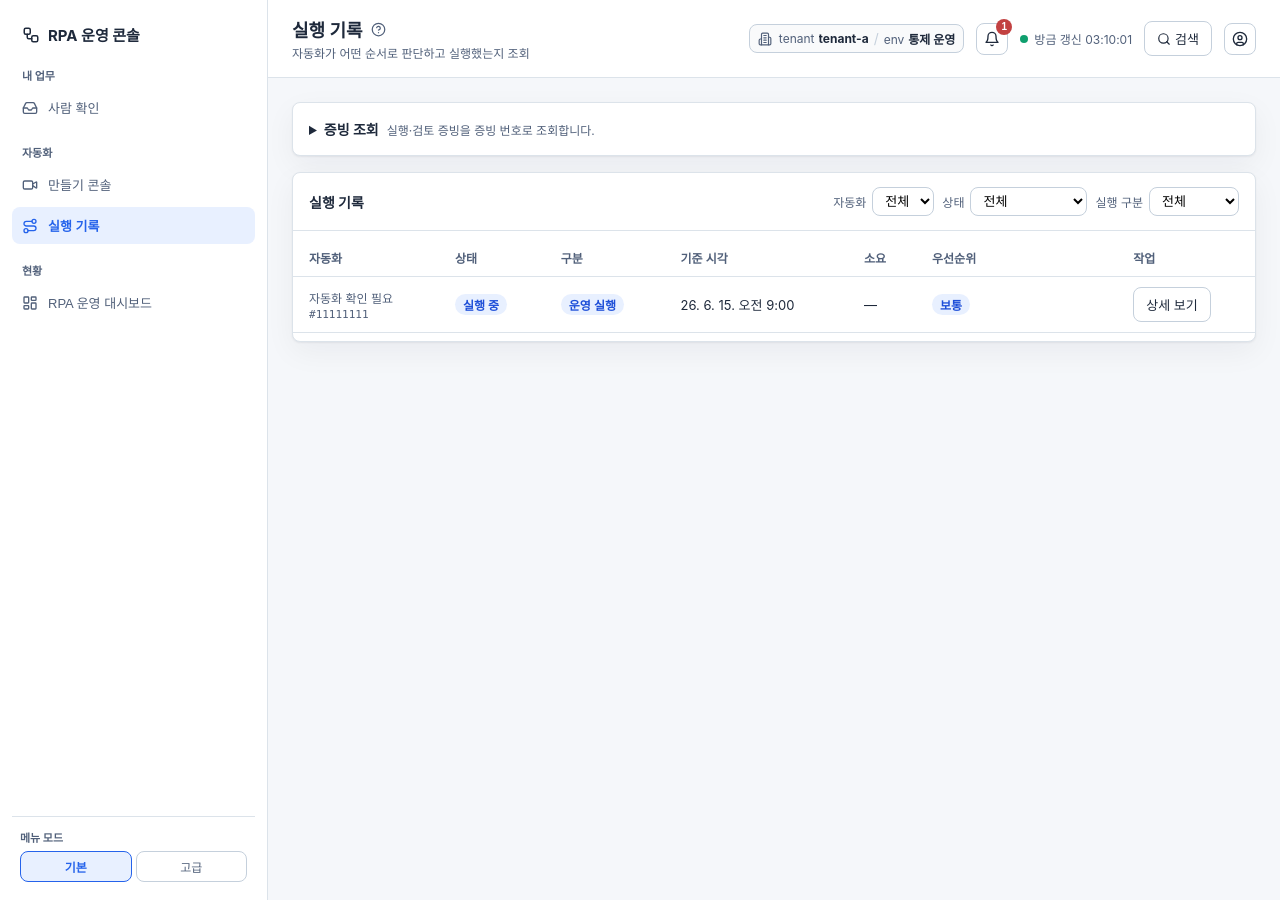
Test: 실행 상세 상태 패널 — 터미널 상태(F3) › 실행 상세 산출물: next_cursor가 있으면 더 보기로 다음 페이지를 append한다
The image size is (1280, 900).
Click the button with aria-label "실행 추적 상세 보기". click: [1172, 304]
box: [1133,287,1211,322]
(page scrolled)
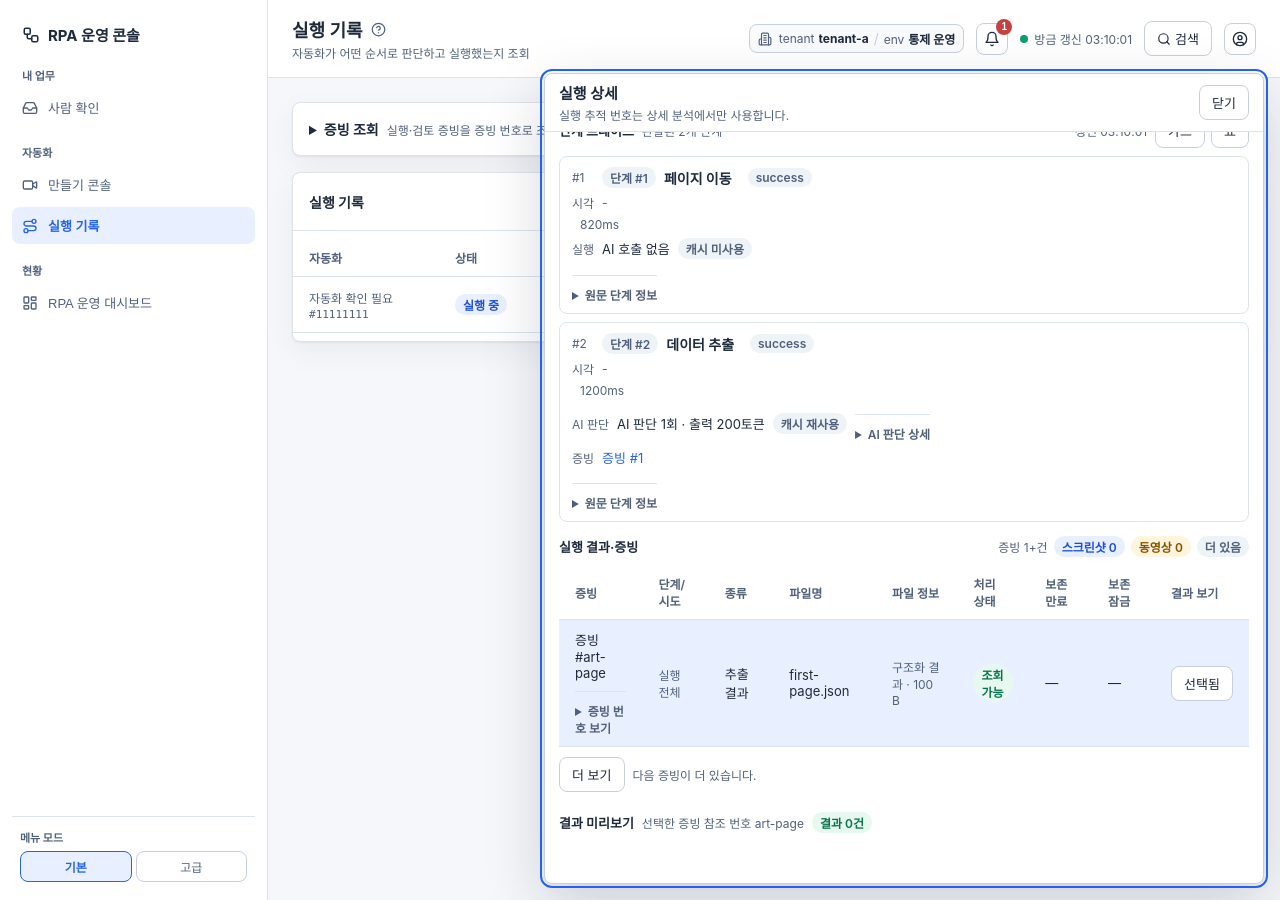
Expected: the text "first-page.json" is shown, [773,620,876,746]
Expected: the element named "증빙 요약" shows "증빙 1+건", [998,536,1249,557]
Click the button "더 보기". click: [592, 774]
box: [559,757,624,792]
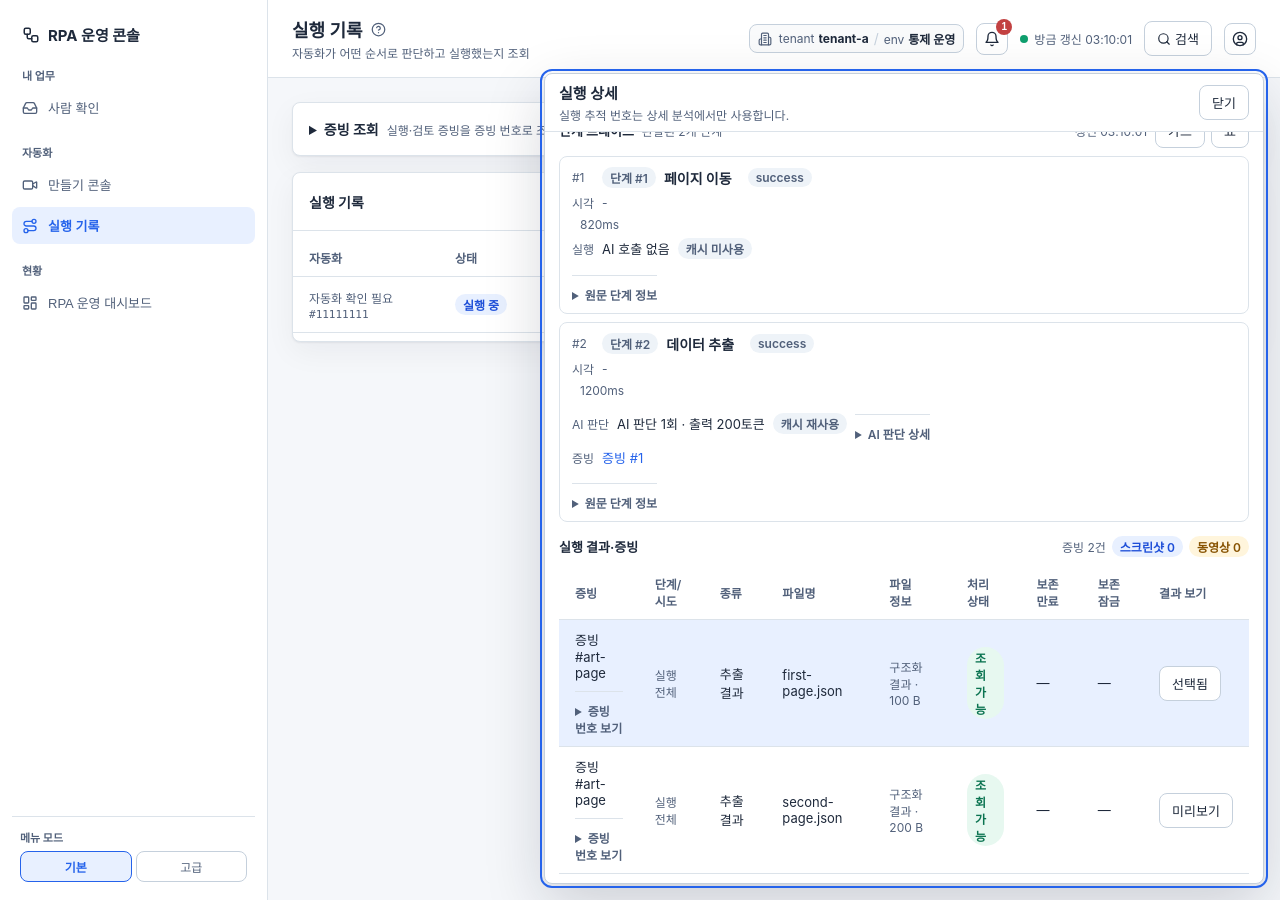
Expected: the text "second-page.json" is shown, [766,746,873,874]
Expected: the text "first-page.json" is shown once, [766,620,873,746]
Expected: the element named "증빙 요약" shows "증빙 2건", [1062,536,1249,557]
